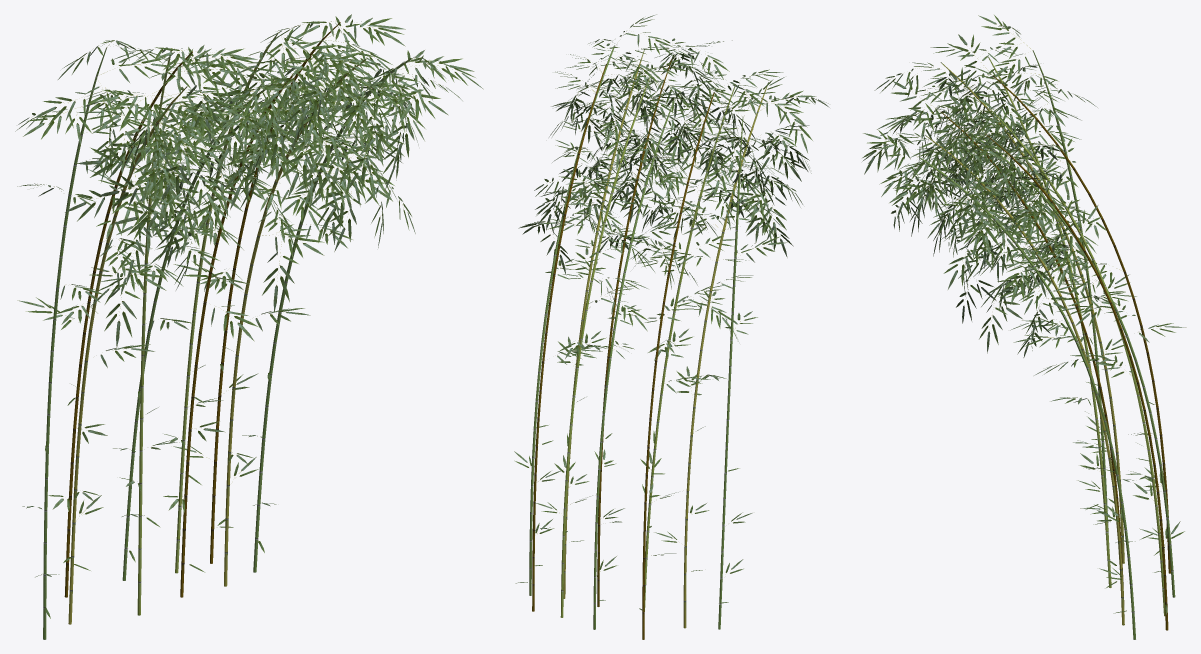
Rendered from bamboo1.glb.
3 views of the same model, side by side, from view 1: azimuth 30°, elevation 25°; view 2: azimuth 150°, elevation 25°; view 3: azimuth 270°, elevation 25° (orthographic). The views are drawn at different scales.
Parts seen in each view (by area): view 1: Object_2, Object_4; view 2: Object_2, Object_4; view 3: Object_2, Object_4.
Part boxes in pixels (box(x1,y1,x2,y2)): Object_2: box(15, 14, 483, 618); Object_4: box(43, 22, 411, 639); Object_2: box(514, 14, 829, 610); Object_4: box(529, 45, 768, 639); Object_2: box(862, 15, 1186, 614); Object_4: box(919, 50, 1175, 639).
Bounding box in the file's own units: 300 × 500 × 278.
Materials: 2 (2 with a texture image).
